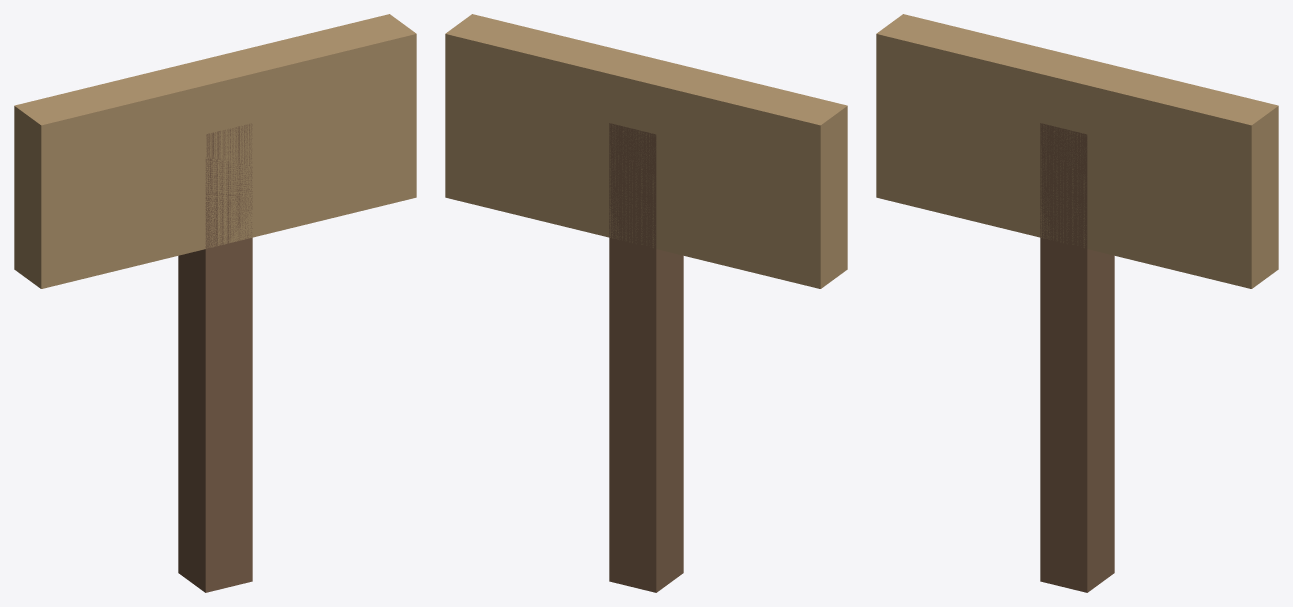
Rendered from sign.glb.
3 renders of one model, left to right at view 1: azimuth 30°, elevation 25°; view 2: azimuth 150°, elevation 25°; view 3: azimuth 330°, elevation 25°, orthographic.
Visible parts, largest first — view 1: sign; view 2: sign; view 3: sign.
Boxes of the visible parts, x1,y1,x2,y2 form: sign: [14, 14, 416, 592]; sign: [445, 14, 847, 592]; sign: [876, 14, 1278, 592].
Size of the model in its own units: 1.2 by 1.55 by 0.15.
